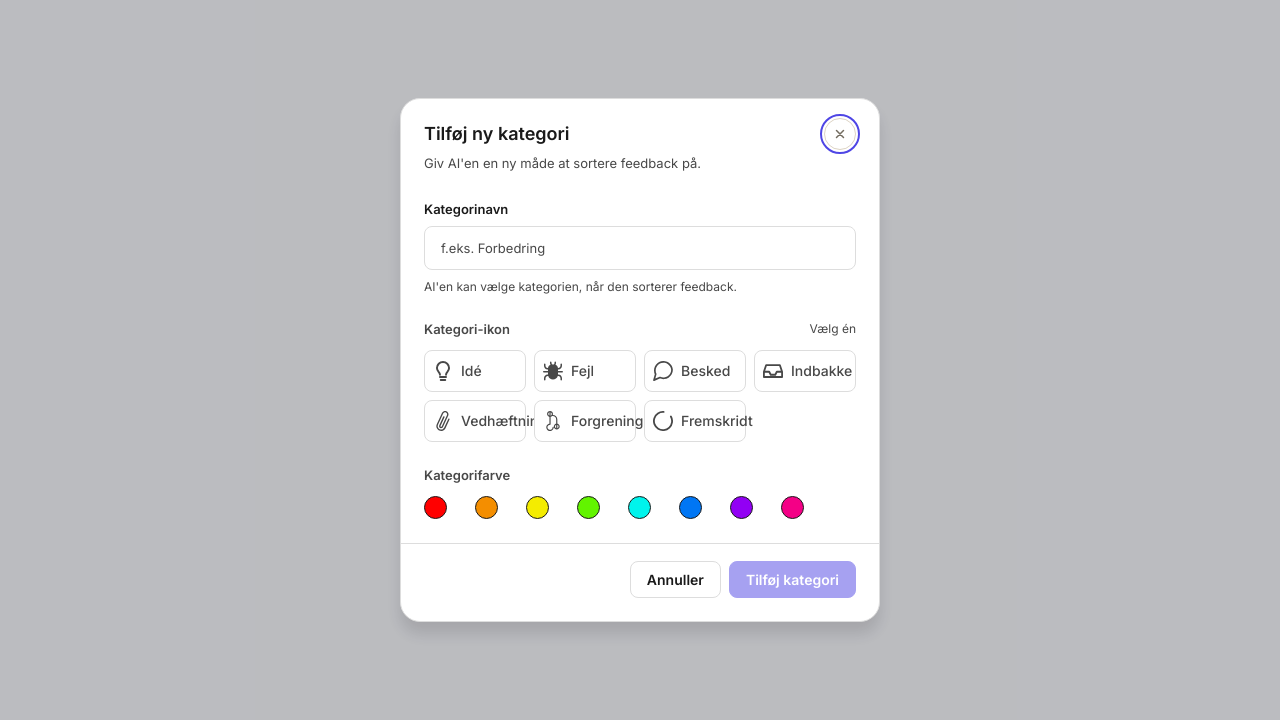
Test: AddCategoryModal – adding (US1) › can only add once a name, an icon and a colour are chosen (FR-008)
The width and height of the screenshot is (1280, 720).
Expected: the button "Tilføj kategori" is disabled, [729, 561, 856, 598]
Type "Forbedring" into the field labelled "Kategorinavn" at (640, 248), box [424, 226, 856, 270]
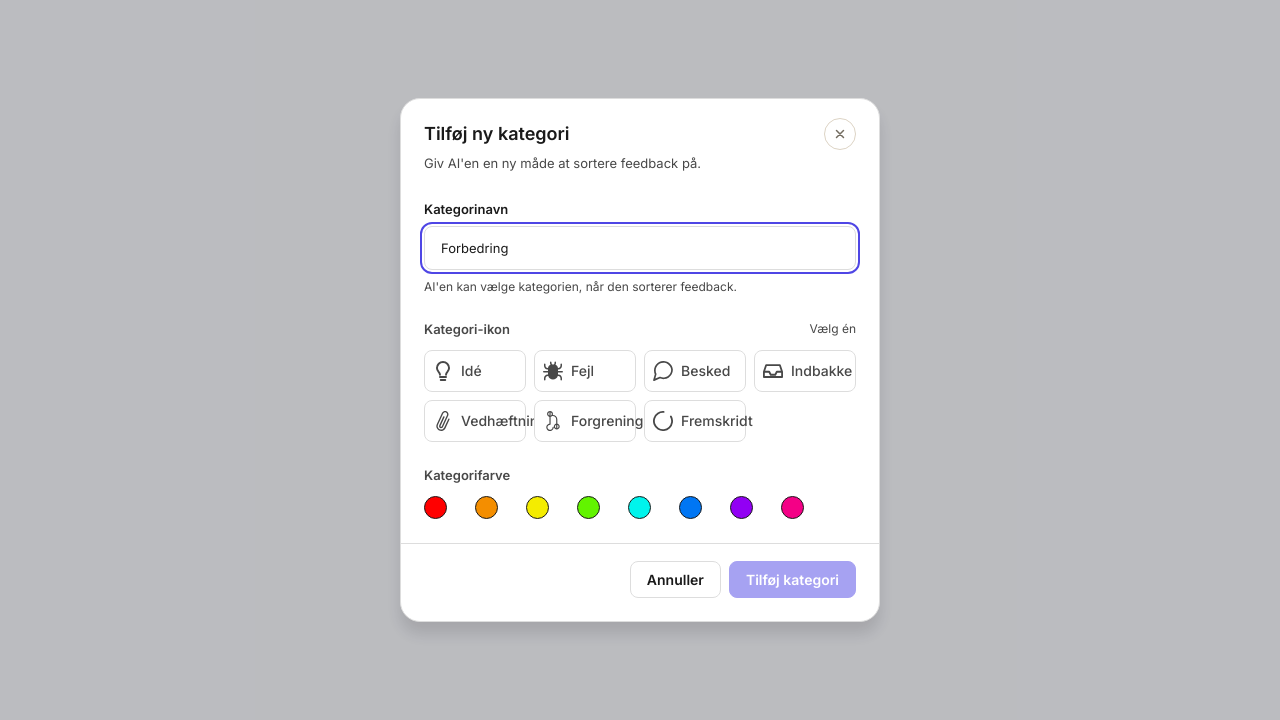
Expected: the button "Tilføj kategori" is disabled, [729, 561, 856, 598]
Click the 1st radio button labelled "Indbakke" at (805, 371), box [754, 350, 856, 392]
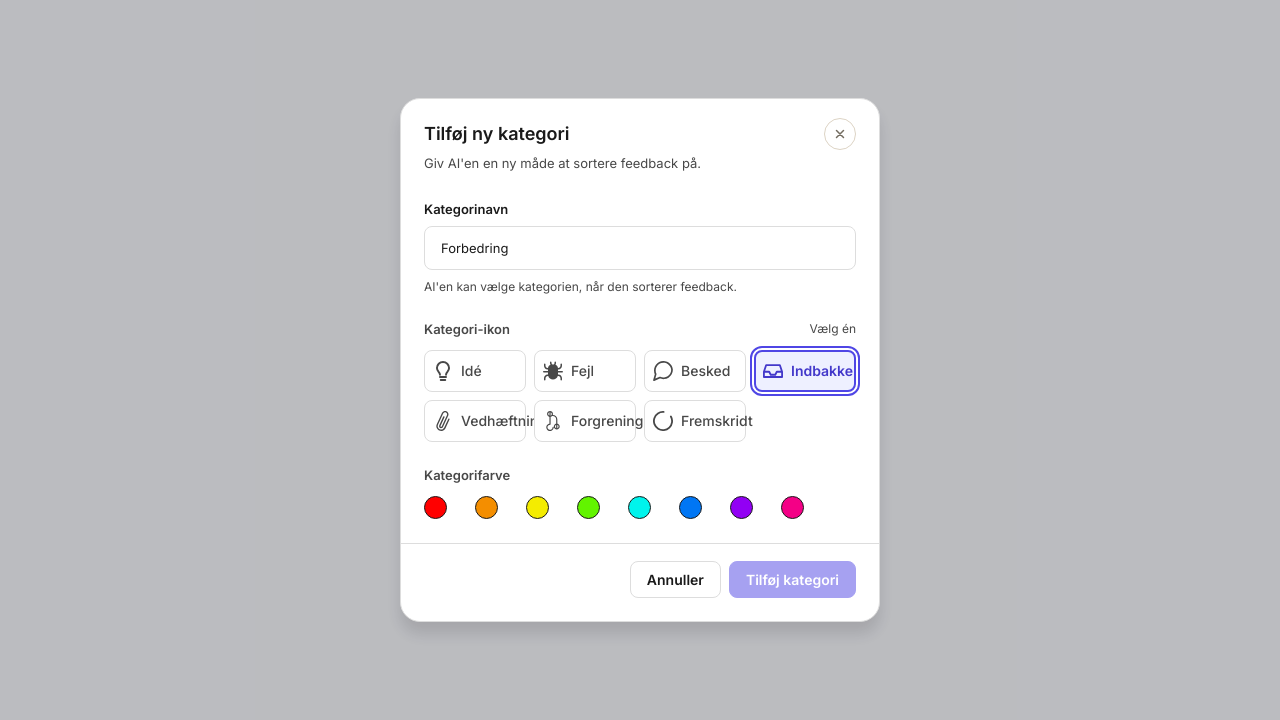
Expected: the button "Tilføj kategori" is disabled, [729, 561, 856, 598]
Click the radio button named "Blå" at (690, 508), box [679, 496, 702, 519]
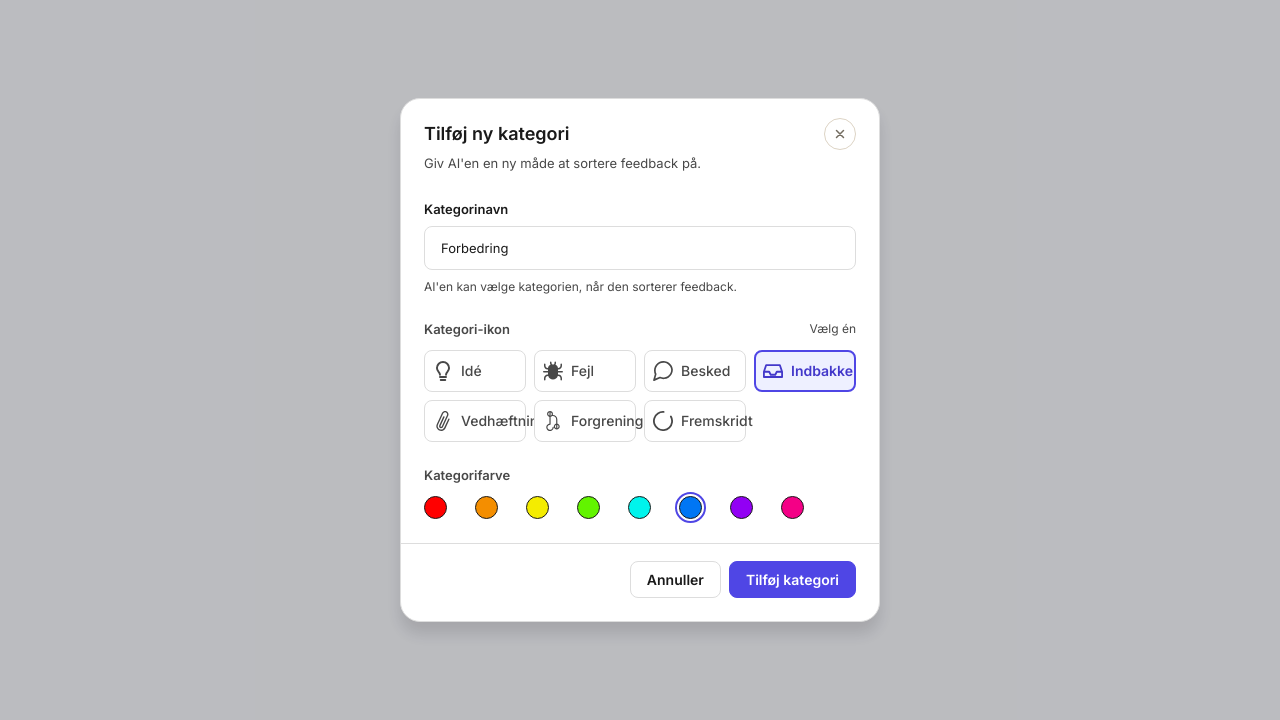
Now the button "Tilføj kategori" is enabled, box [729, 561, 856, 598]
